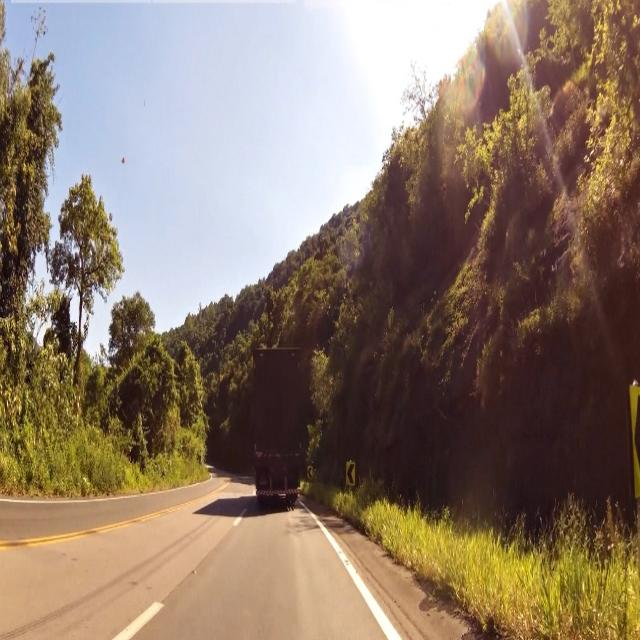Del: (346, 460, 356, 485)
